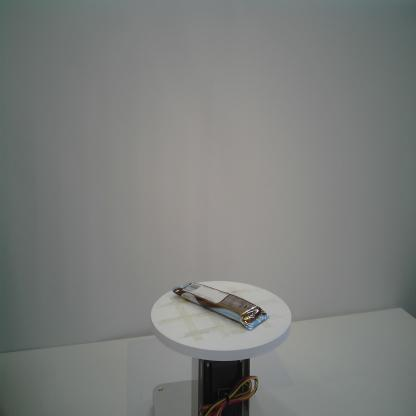Chocolate: (171, 282, 270, 332)
